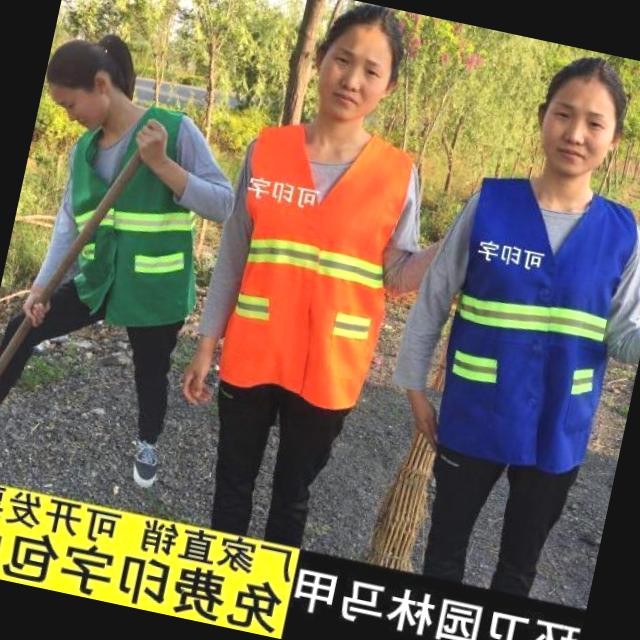boots: (112, 420, 174, 493)
no-gloves: (176, 344, 224, 408), (128, 114, 179, 172), (401, 386, 446, 447), (12, 286, 58, 332)
no-helmet: (524, 45, 636, 182), (301, 0, 415, 128), (36, 23, 146, 138)
vest: (419, 166, 640, 479), (210, 111, 432, 415), (46, 87, 217, 325)
